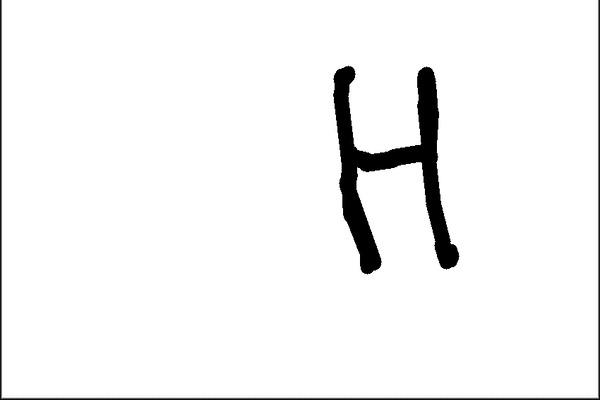H: (324, 58, 468, 277)
